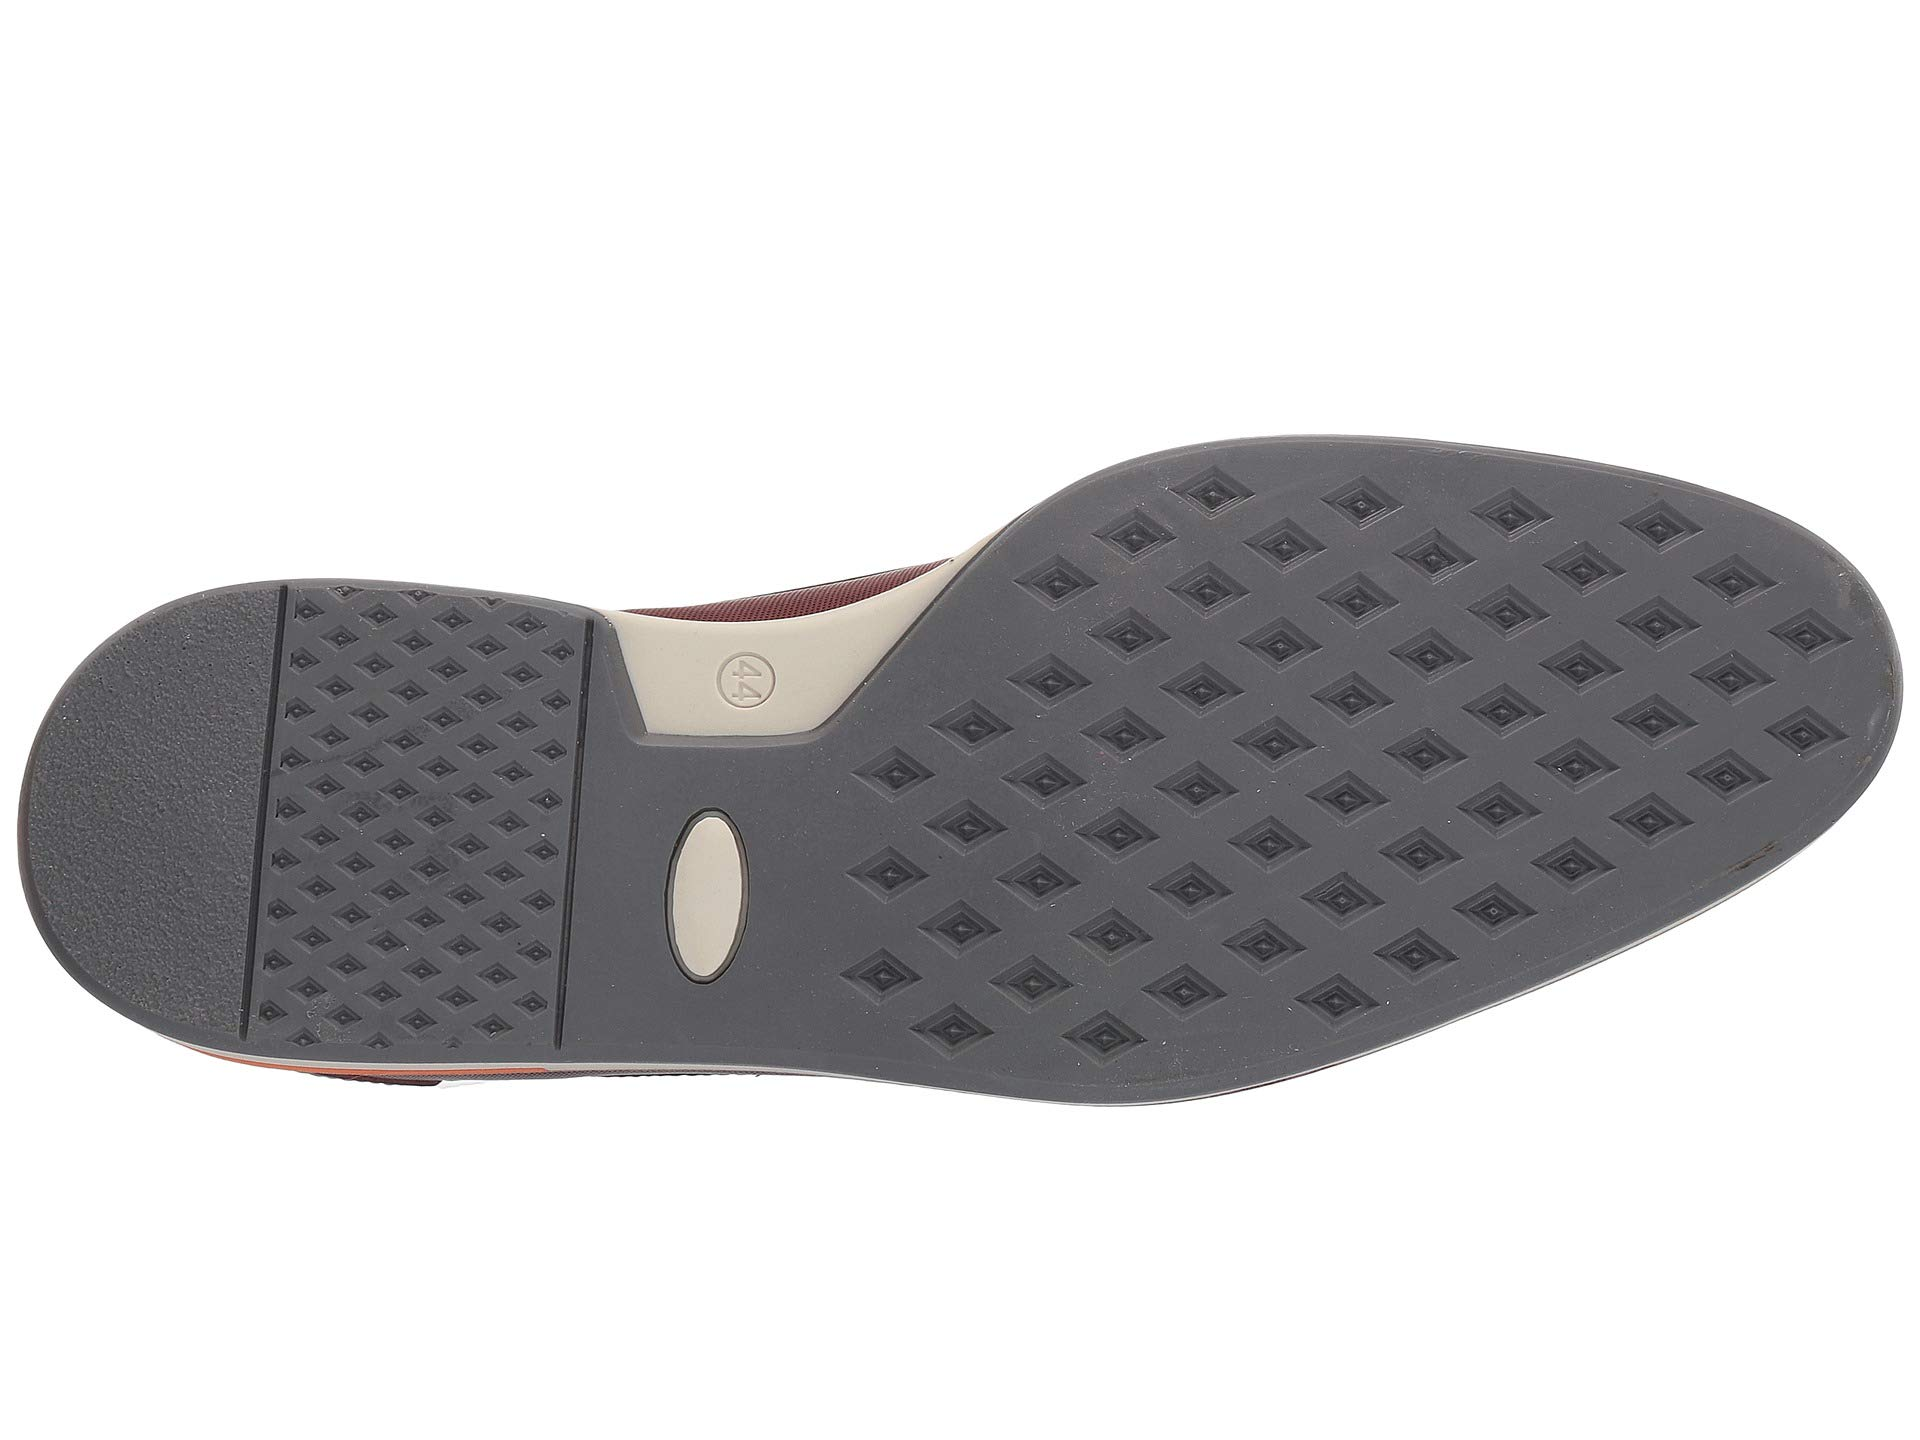circle: (615, 787, 838, 1007), (695, 629, 804, 737)
quad: (1128, 535, 1534, 971), (268, 650, 531, 905)
text: (695, 629, 804, 737)
